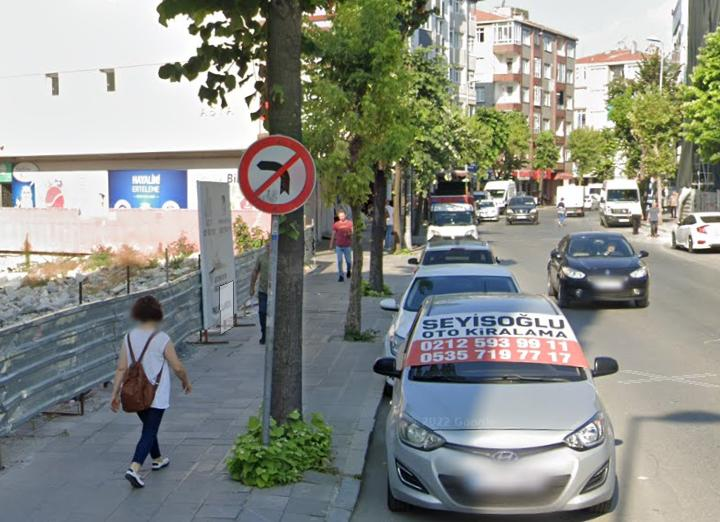leftturnsareforbidden: (239, 137, 317, 211)
